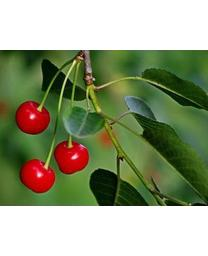cherry: (15, 99, 51, 136), (53, 140, 89, 175), (20, 159, 56, 194)
